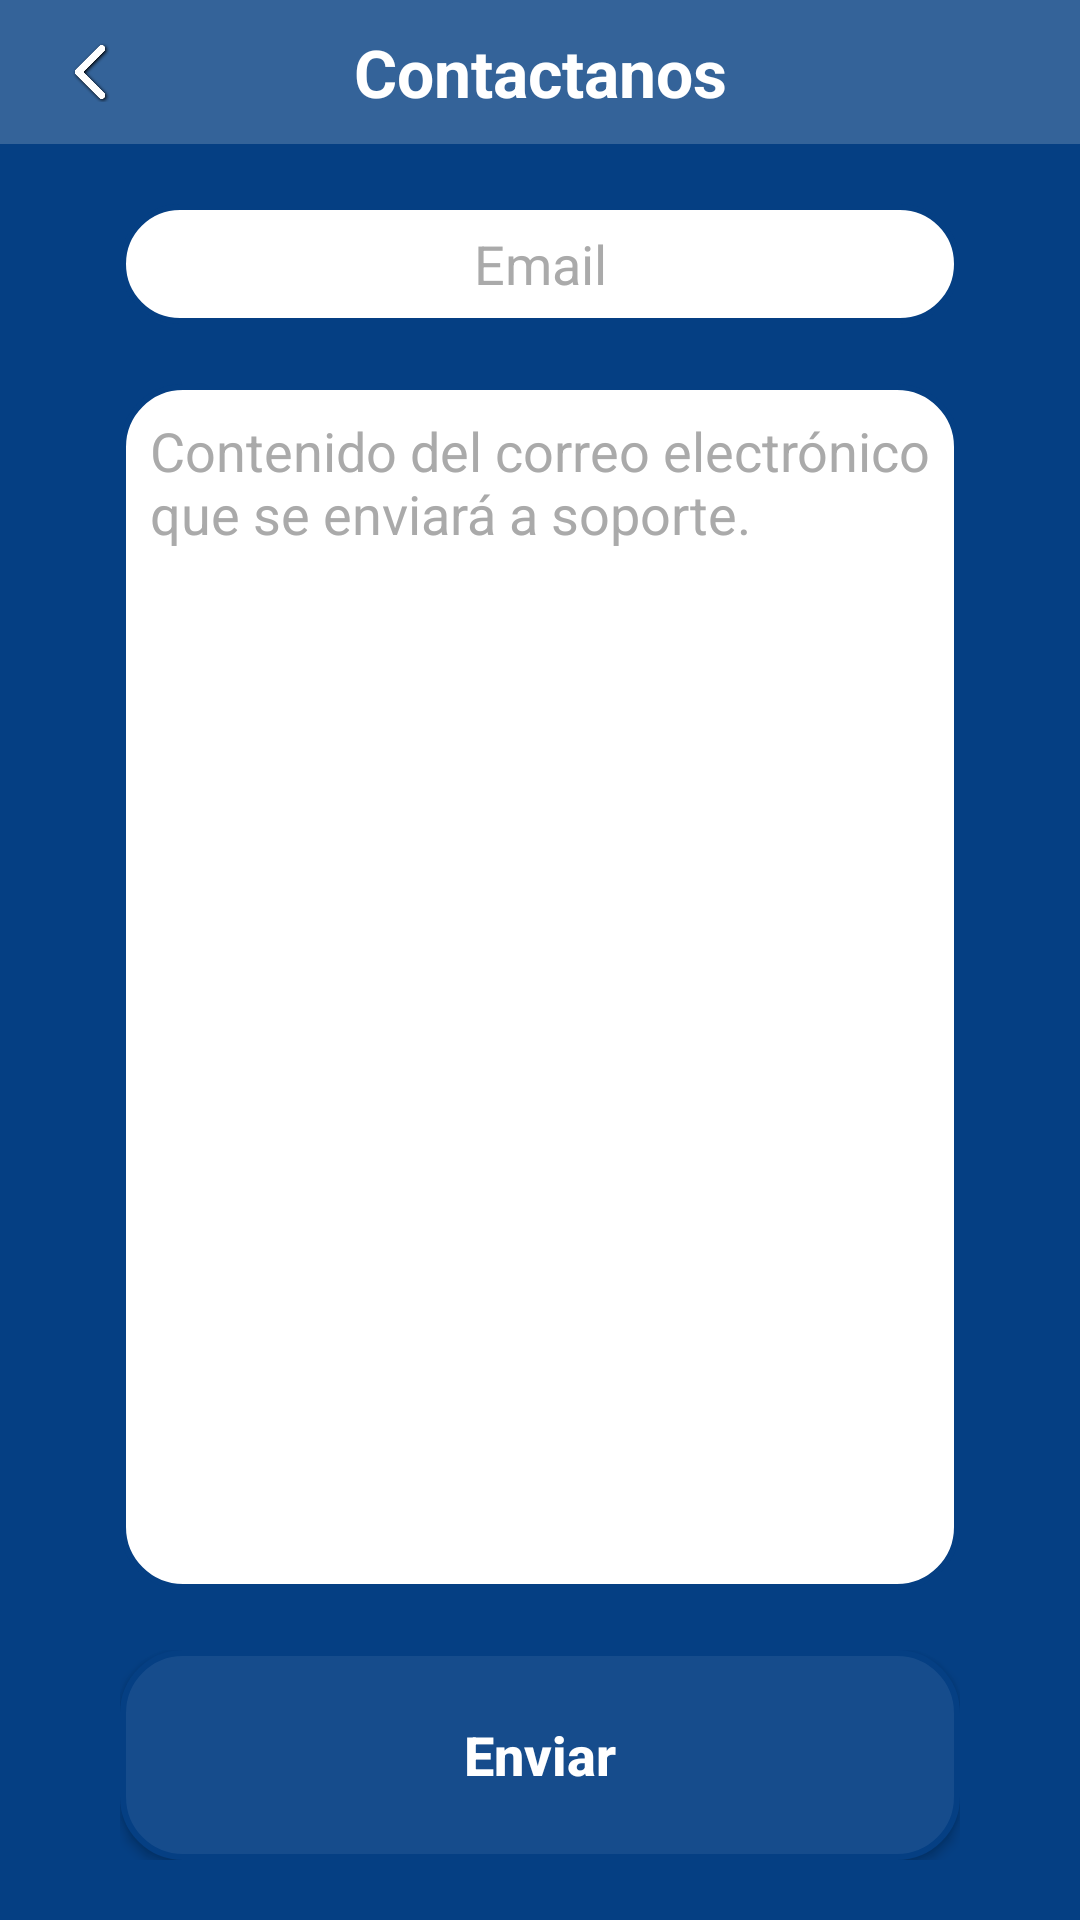

Where icons sit on this 1080 x 1920 app screen, as rect(x1, y1, x2, y2):
back: rect(74, 45, 108, 102)
